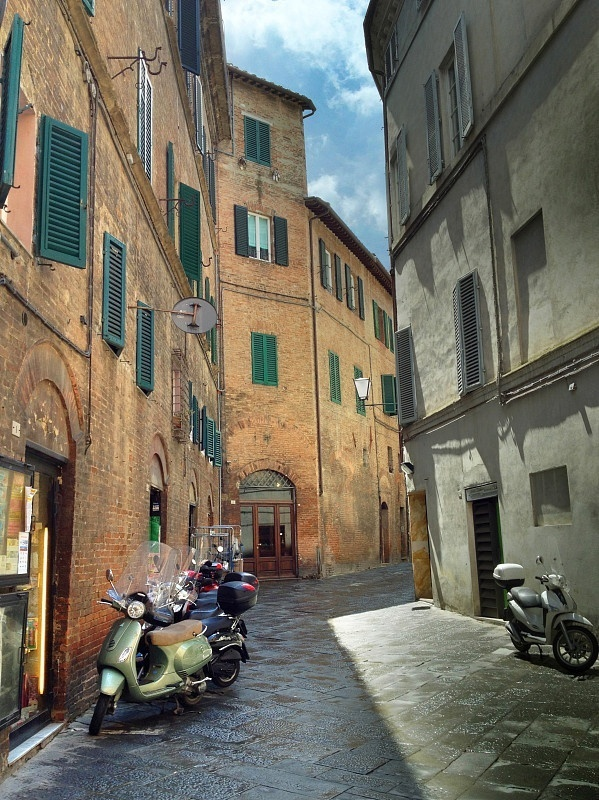non-vehicle: (66, 575, 258, 726), (495, 561, 593, 669), (169, 566, 253, 684)
